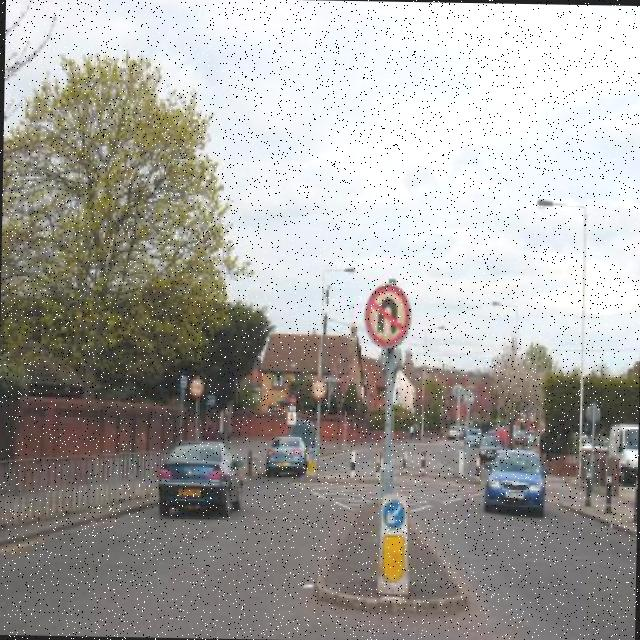Zakaz wjazdu: (288, 393, 296, 408)
